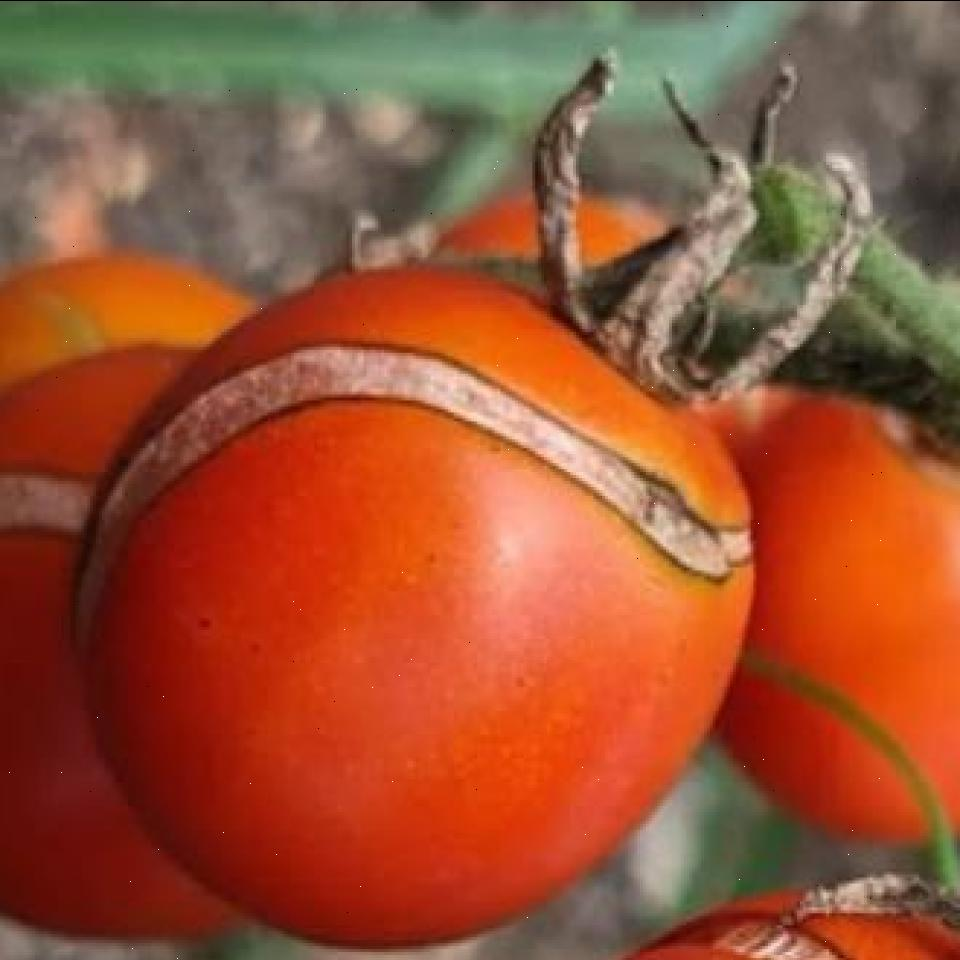Cracking: (82, 346, 750, 648), (0, 438, 128, 588), (692, 915, 878, 960)
